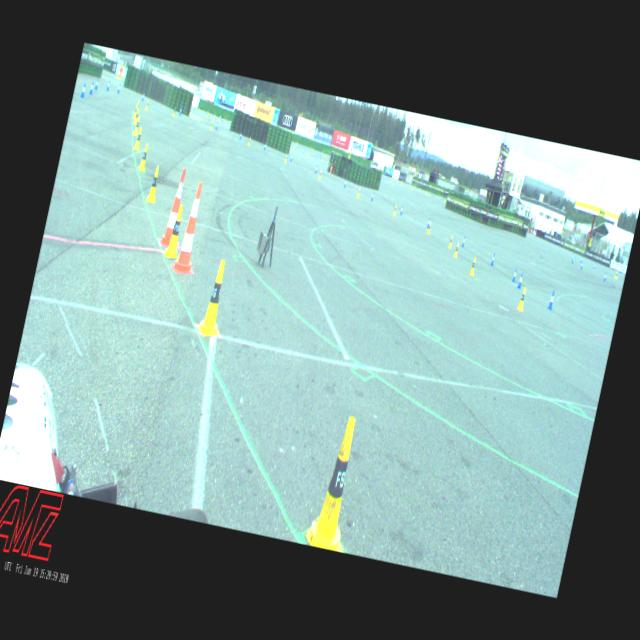blue_cone: (547, 290, 555, 310), (80, 81, 87, 97), (516, 272, 523, 288), (88, 82, 95, 95), (511, 268, 517, 282), (490, 252, 495, 266), (94, 78, 100, 89), (460, 236, 466, 247), (106, 80, 110, 91), (426, 217, 430, 228), (399, 205, 403, 215), (117, 83, 121, 93), (370, 191, 374, 201), (314, 164, 318, 173), (178, 106, 182, 115), (141, 92, 145, 101), (579, 261, 583, 269), (238, 131, 242, 139), (215, 120, 218, 130), (290, 153, 293, 161), (604, 272, 606, 281), (344, 178, 346, 186), (264, 142, 266, 150)
large_orange_cone: (172, 180, 210, 273), (159, 167, 187, 245)
yellow_cone: (303, 412, 372, 552), (196, 258, 233, 338), (162, 204, 188, 258), (146, 165, 162, 202), (138, 143, 150, 171), (516, 286, 528, 311), (134, 126, 144, 150), (468, 256, 476, 276), (133, 115, 141, 135), (452, 242, 460, 258), (132, 108, 140, 124), (132, 105, 138, 118), (448, 235, 453, 248), (356, 186, 361, 198), (426, 222, 431, 234), (392, 204, 397, 215), (145, 98, 149, 110), (209, 120, 213, 130), (172, 106, 176, 116), (247, 136, 251, 146), (284, 153, 288, 163), (318, 170, 322, 180)
